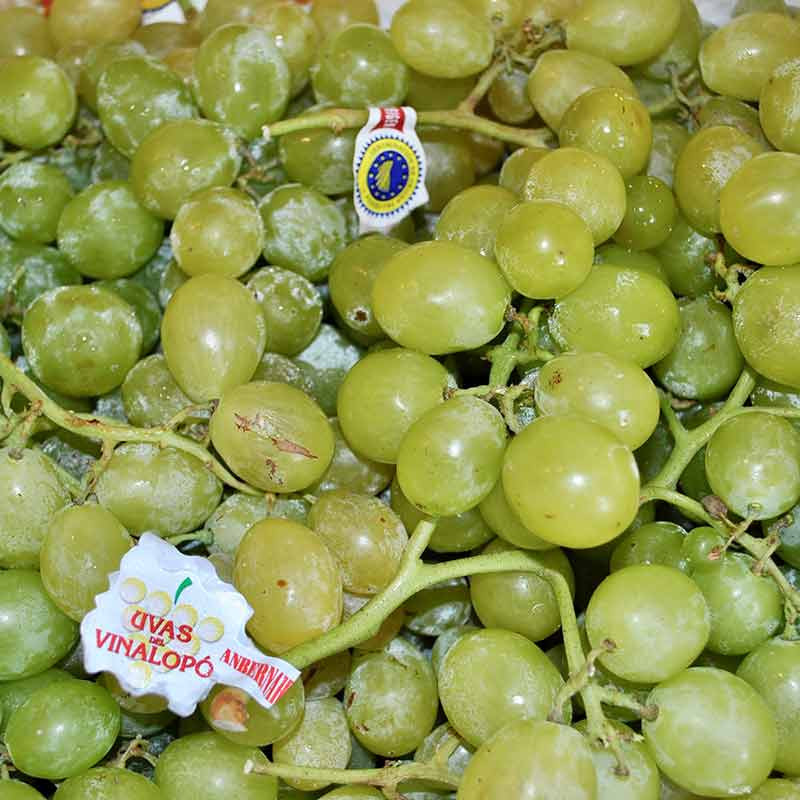Green grapes: (21, 35, 770, 784)
